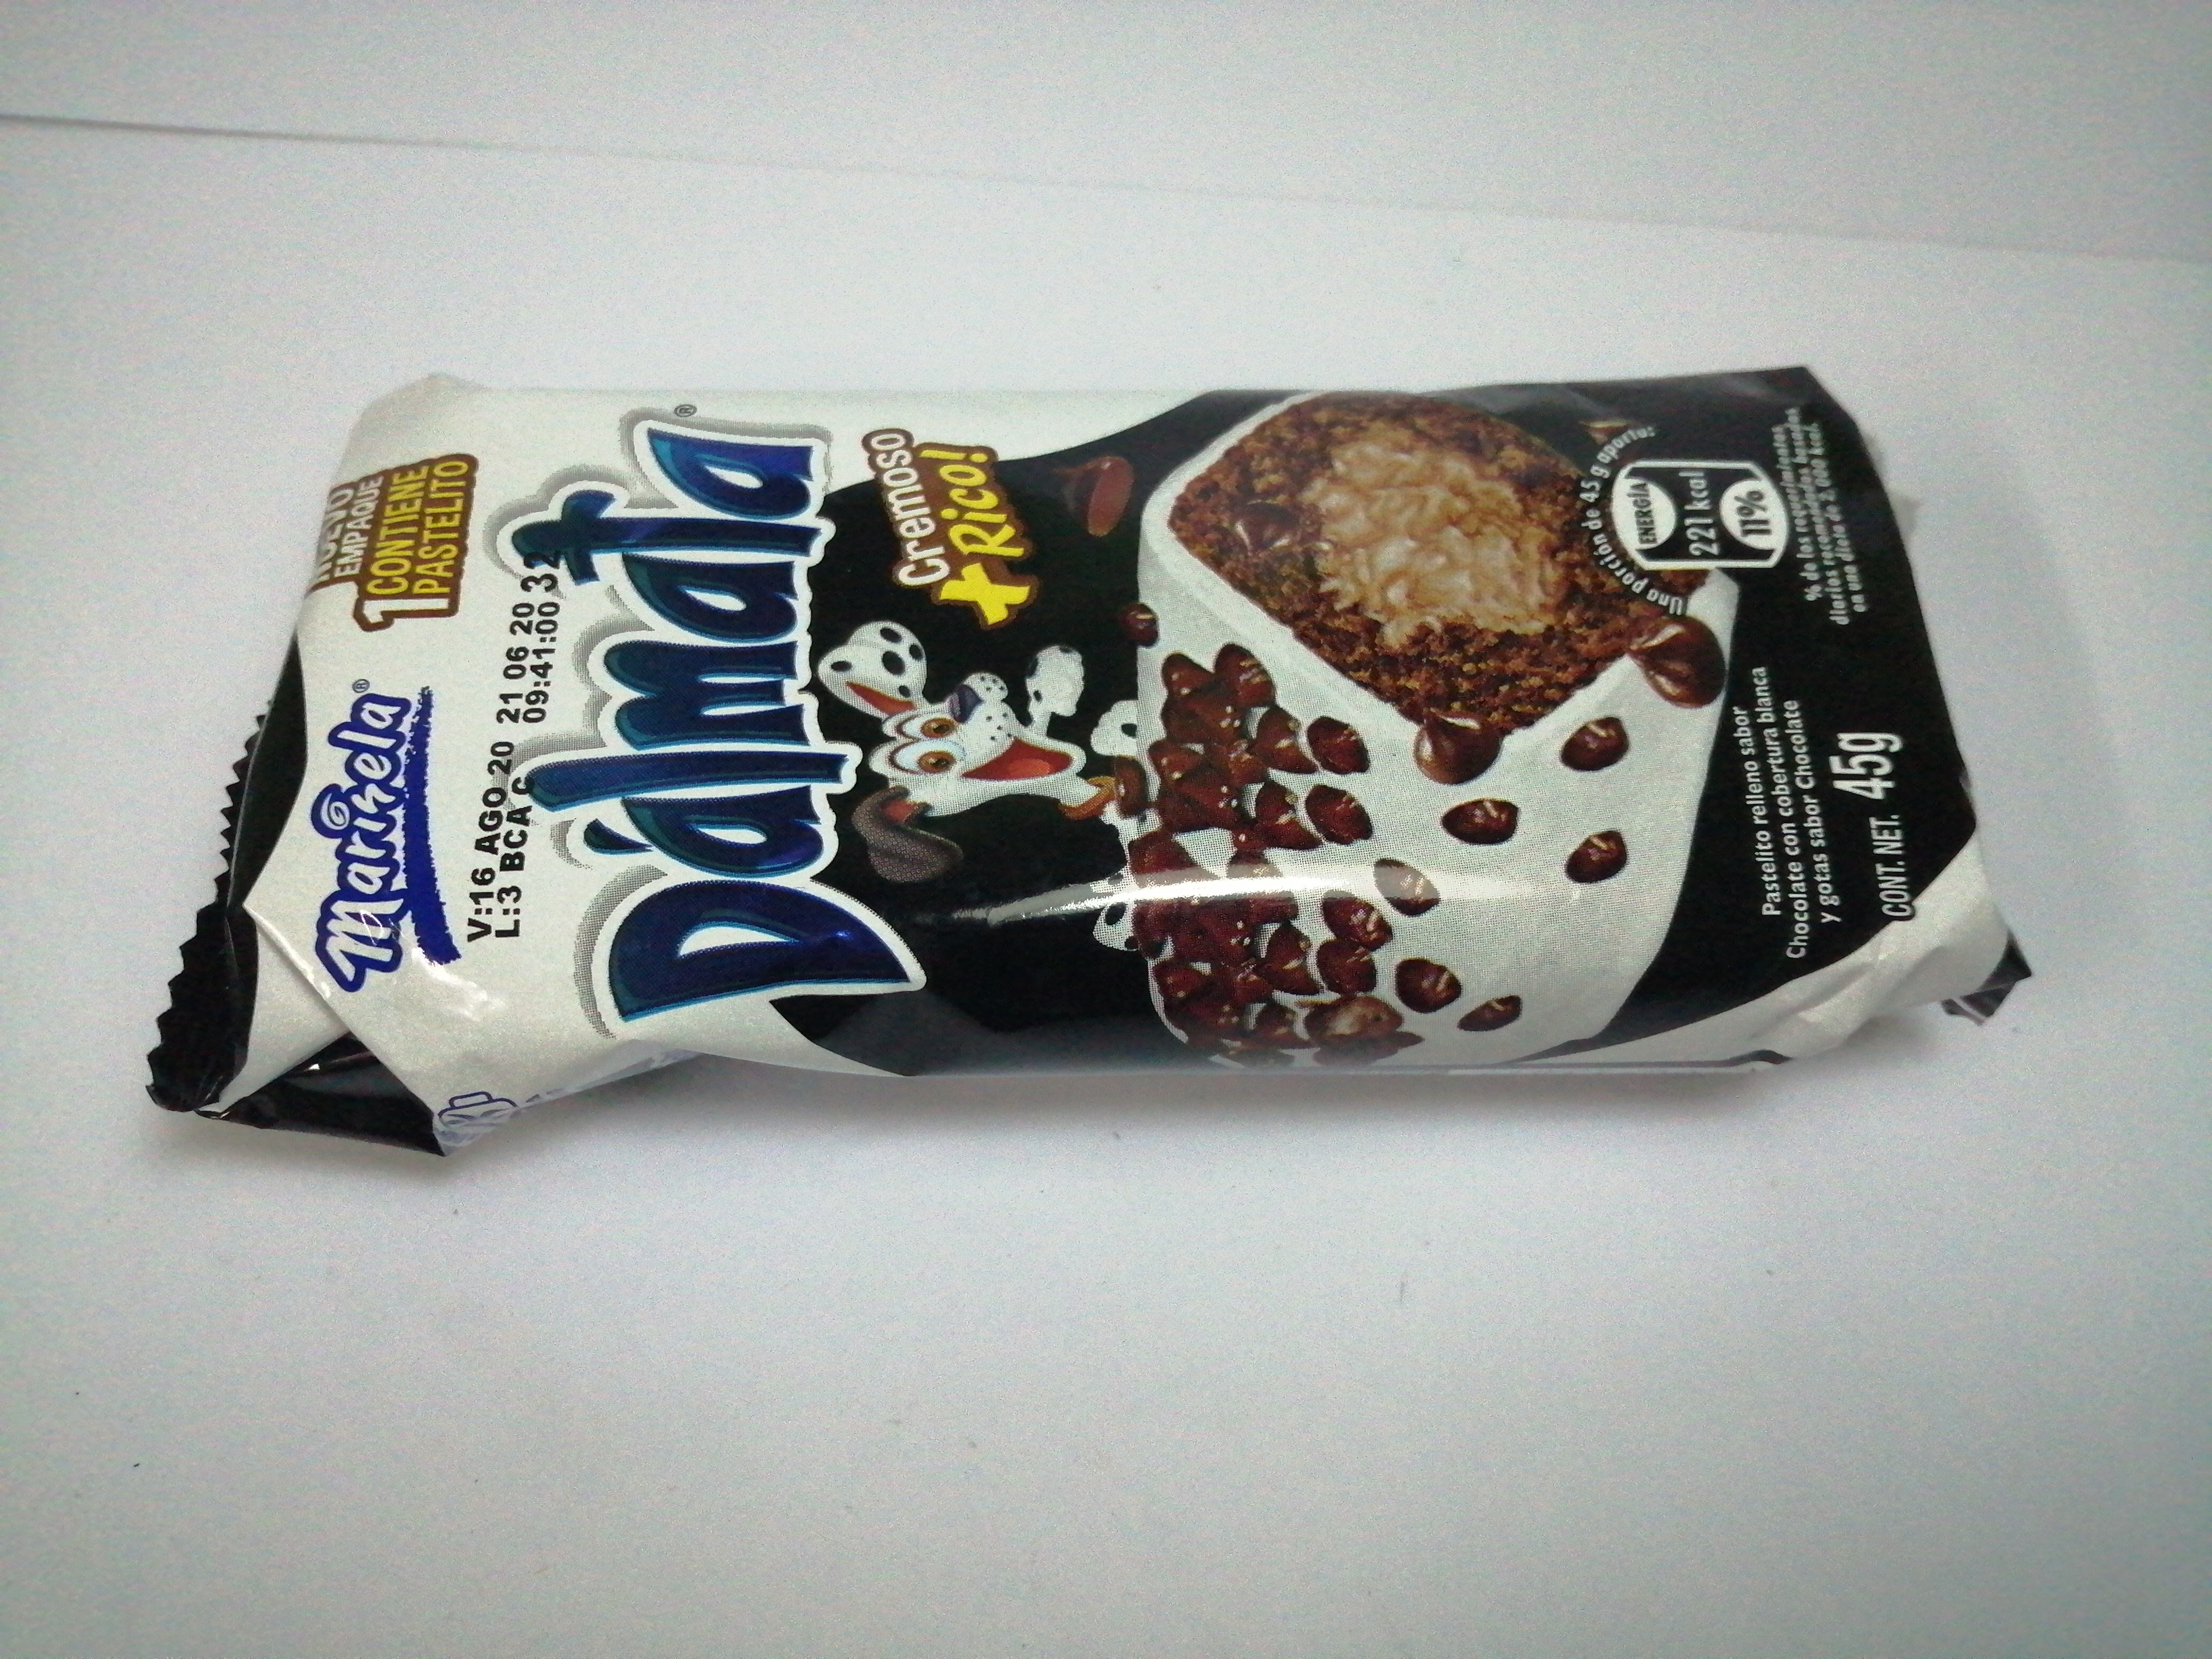dalmata: (129, 314, 2050, 1161)
